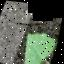Morning glory: (12, 2, 64, 64)
